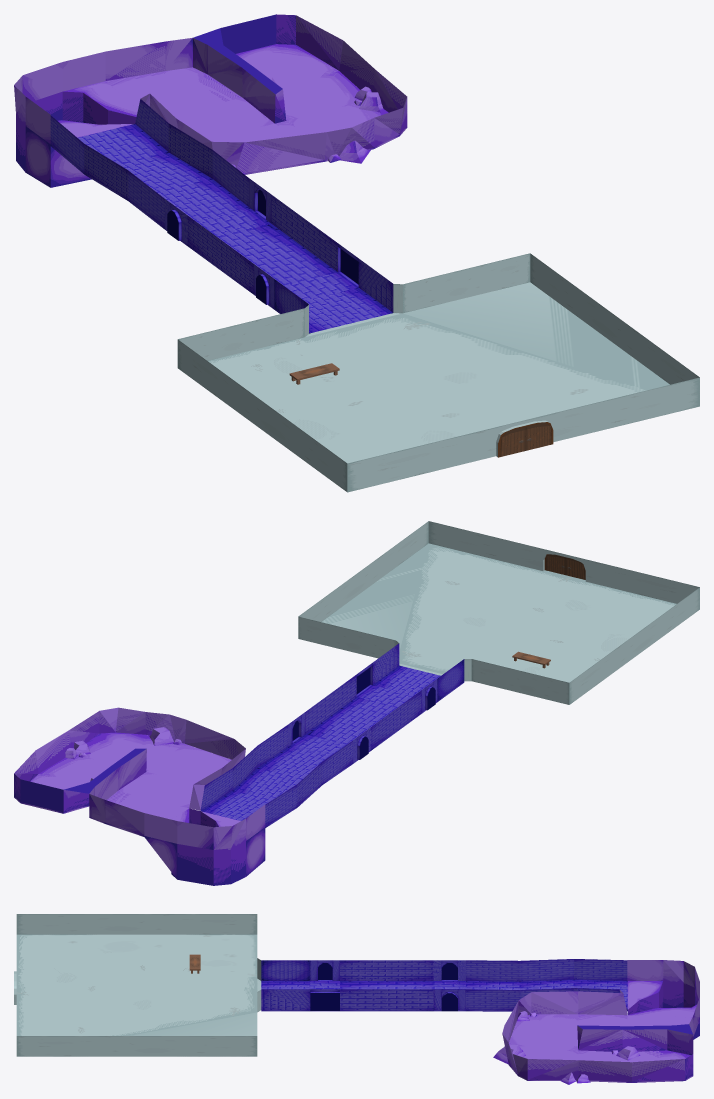
The model's file is NEWCaveInterminado.glb.
The picture shows the model from 3 angles, top to bottom: view 1: azimuth 30°, elevation 25°; view 2: azimuth 150°, elevation 25°; view 3: azimuth 270°, elevation 25°; orthographic projection. The views are drawn at different scales.
Visible parts, largest first — view 1: Refeitorio, Dungeon, CaveWALL, CaveFLOOR, Door, Void, Stones; view 2: Refeitorio, Dungeon, CaveWALL, CaveFLOOR, Door, Stones, Void; view 3: Refeitorio, Dungeon, CaveWALL, CaveFLOOR, Void, Stones.
Boxes of the visible parts, x1,y1,x2,y2 form: Refeitorio: (177, 253, 699, 492); Dungeon: (50, 99, 393, 333); CaveWALL: (14, 14, 407, 173); CaveFLOOR: (16, 44, 407, 187); Door: (498, 422, 553, 457); Void: (167, 189, 358, 304); Stones: (231, 77, 383, 173); Refeitorio: (298, 521, 699, 704); Dungeon: (200, 643, 464, 827); CaveWALL: (14, 707, 265, 849); CaveFLOOR: (14, 732, 265, 885); Door: (544, 554, 585, 579); Stones: (65, 727, 181, 781); Void: (292, 667, 435, 759); Refeitorio: (14, 914, 261, 1056); Dungeon: (261, 959, 627, 1011); CaveWALL: (502, 960, 699, 1081); CaveFLOOR: (508, 981, 699, 1082); Void: (310, 963, 457, 1011); Stones: (493, 1011, 640, 1084).
Bounding box in the file's own units: 68.27 × 11.69 × 133.
12 materials, 12 textured.
